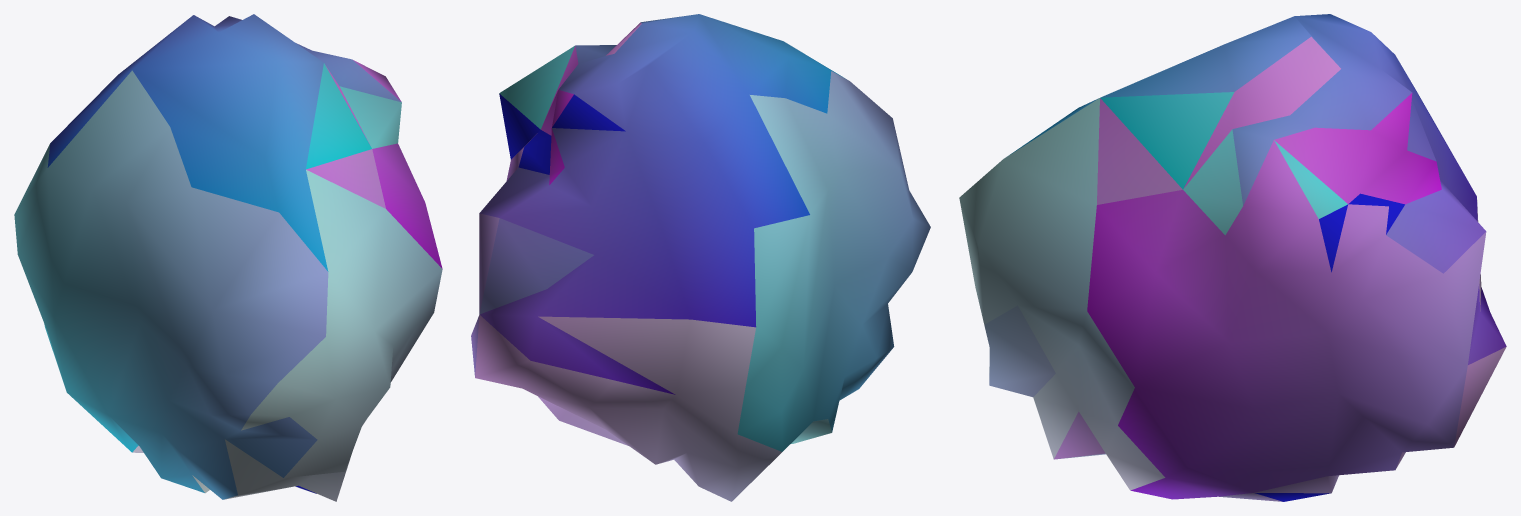
The picture shows the model from 3 angles, left to right: view 1: azimuth 30°, elevation 25°; view 2: azimuth 150°, elevation 25°; view 3: azimuth 270°, elevation 25°; orthographic projection. The views are drawn at different scales.
Parts seen in each view (by area): view 1: SM_Roots_01_LOD0; view 2: SM_Roots_01_LOD0; view 3: SM_Roots_01_LOD0.
Boxes of the visible parts, bbox=[...] form: SM_Roots_01_LOD0: bbox=[14, 14, 442, 501]; SM_Roots_01_LOD0: bbox=[471, 14, 930, 501]; SM_Roots_01_LOD0: bbox=[959, 14, 1506, 501].
Size of the model in its own units: 0.2673 by 0.3389 by 0.354.
